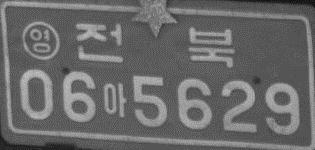0: (18, 68, 54, 121)
2: (220, 78, 257, 133)
5: (132, 74, 168, 129)
6: (176, 78, 212, 131), (61, 70, 96, 123)
9: (264, 82, 300, 136)
아: (103, 83, 128, 118)
영: (21, 20, 60, 61)
전북_D: (74, 21, 234, 68)
